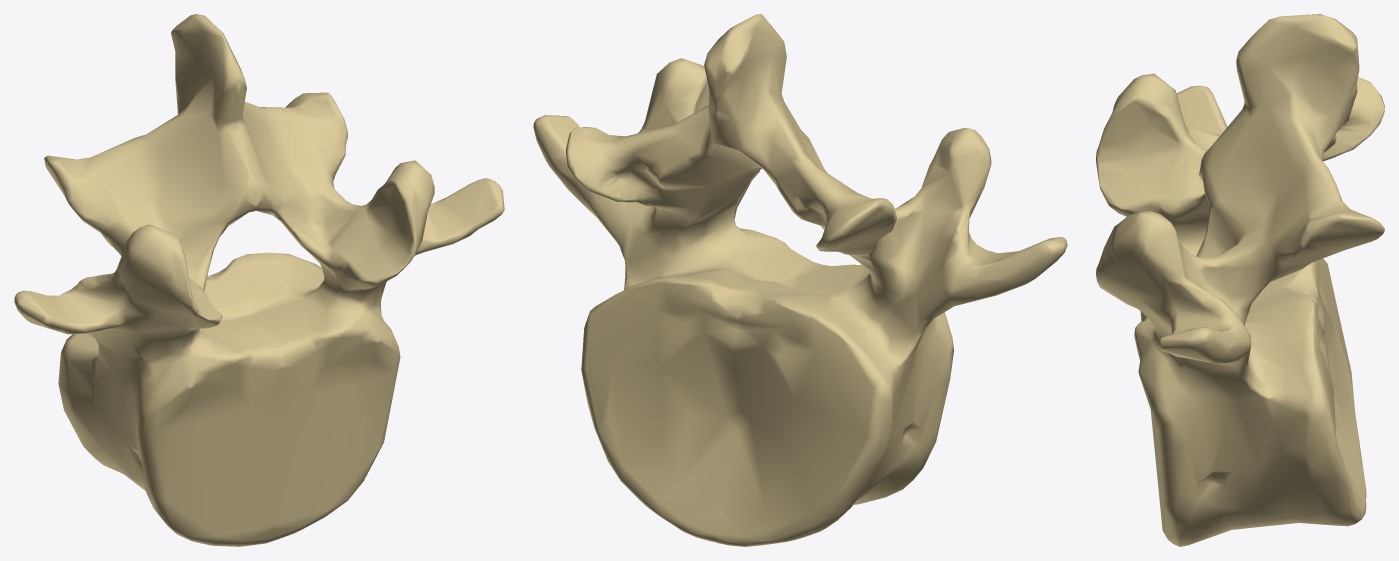
The picture shows the model from 3 angles, left to right: view 1: azimuth 30°, elevation 25°; view 2: azimuth 150°, elevation 25°; view 3: azimuth 270°, elevation 25°; orthographic projection. The views are drawn at different scales.
Visible parts, largest first — view 1: 第四腰椎; view 2: 第四腰椎; view 3: 第四腰椎.
Part boxes in pixels (left/top/right/bottom): 第四腰椎: left=14, top=14, right=504, bottom=546; 第四腰椎: left=533, top=14, right=1067, bottom=546; 第四腰椎: left=1096, top=14, right=1384, bottom=546.
Bounding box in the file's own units: 0.1307 × 0.1243 × 0.0632.
